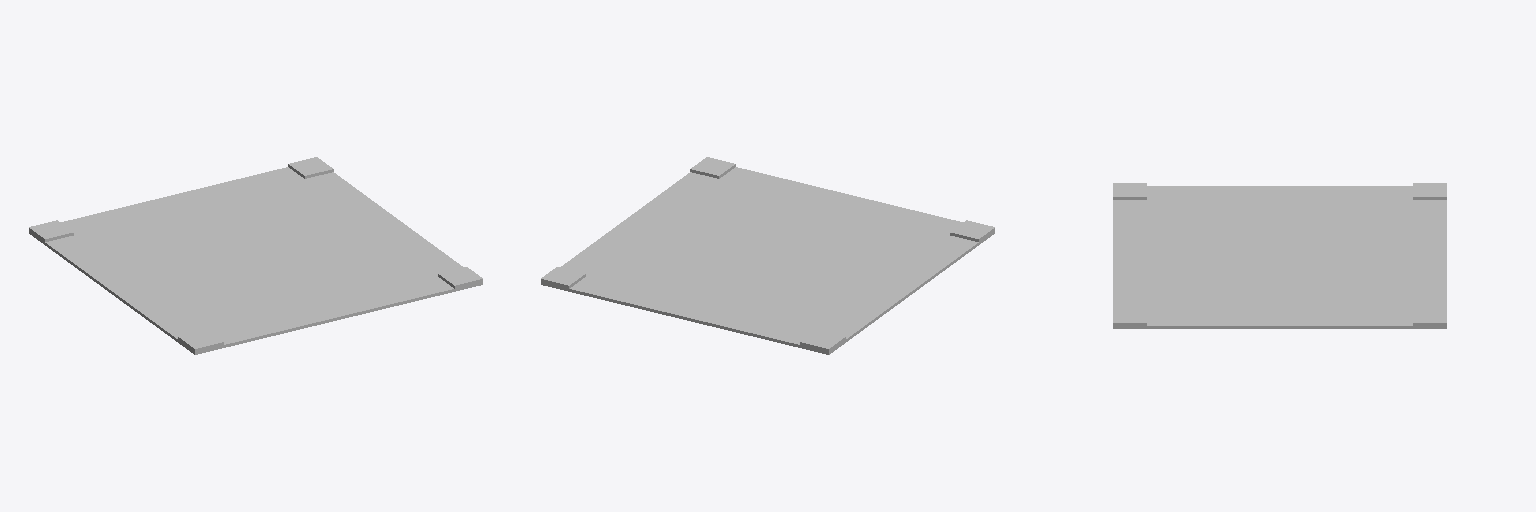
Rendered from road_crossroadLine.obj.
3 renders of one model, left to right at view 1: azimuth 30°, elevation 25°; view 2: azimuth 150°, elevation 25°; view 3: azimuth 270°, elevation 25°, orthographic.
Visible parts, largest first — view 1: road_crossroadLine; view 2: road_crossroadLine; view 3: road_crossroadLine.
Boxes of the visible parts, x1,y1,x2,y2 form: road_crossroadLine: [29, 157, 482, 354]; road_crossroadLine: [541, 157, 994, 354]; road_crossroadLine: [1113, 183, 1446, 328].
Size of the model in its own units: 1 by 0.02 by 1.